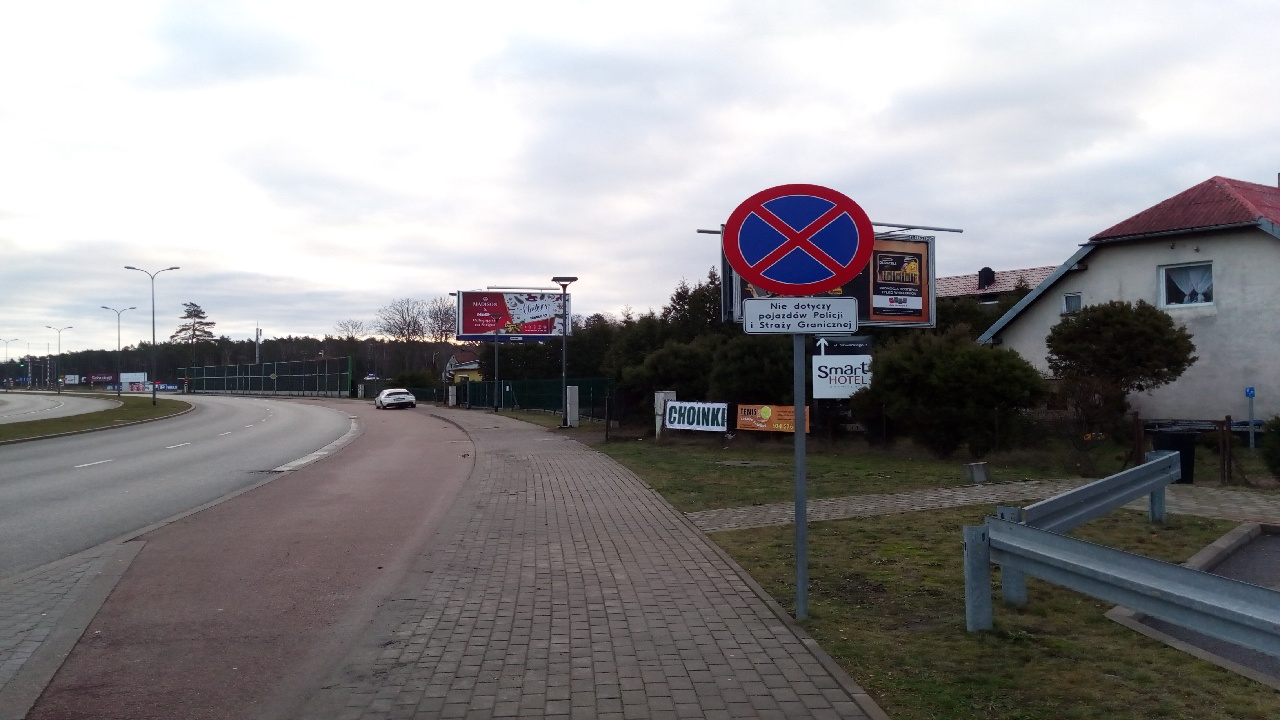B36: (721, 183, 876, 294)
